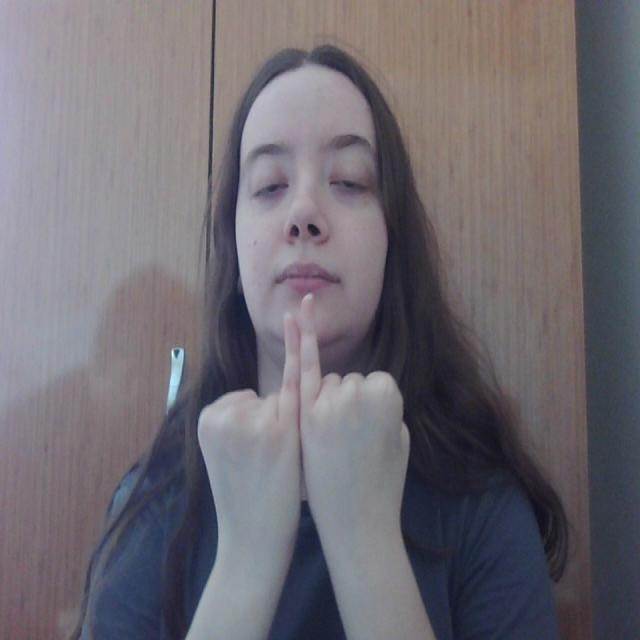Kardes: (188, 292, 416, 542)
